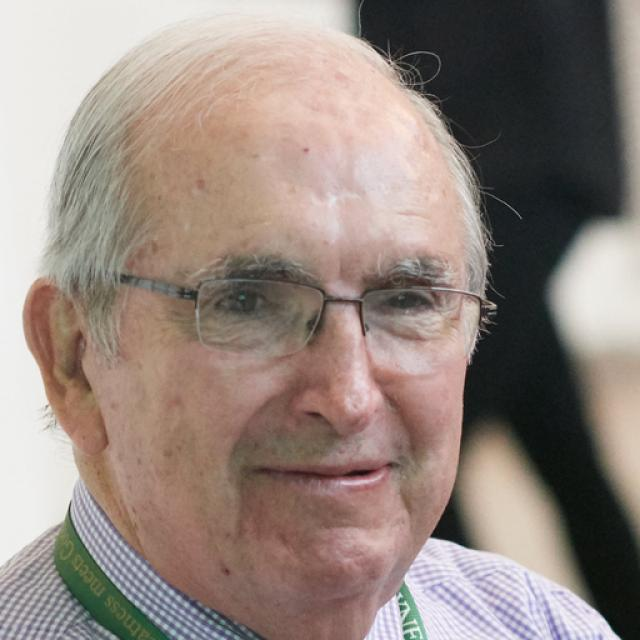Pigmentation: (296, 303, 357, 397)
Wrinkle: (396, 204, 428, 221)
